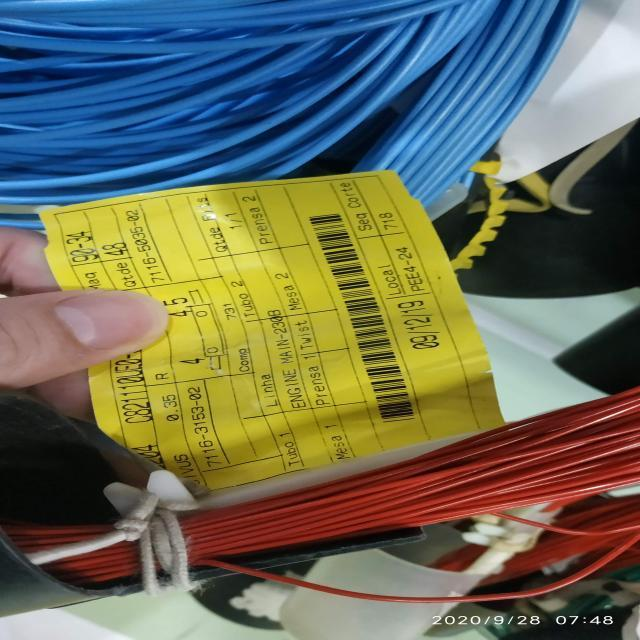cable-tie: (36, 118, 503, 516)
